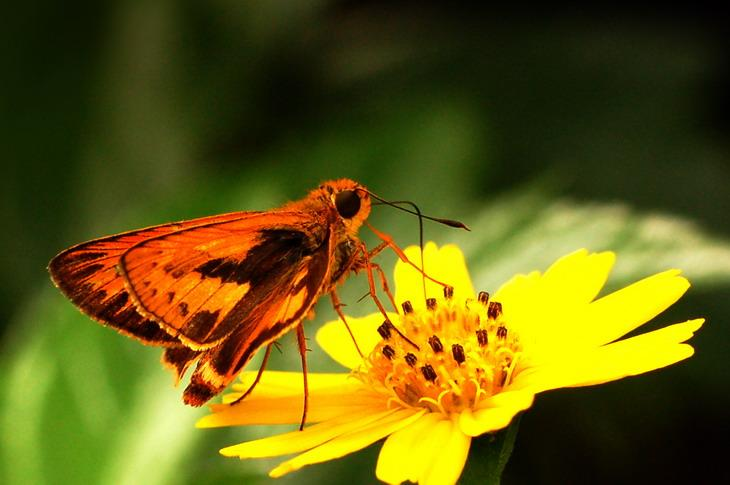Hesperiidae: (46, 169, 470, 431)
